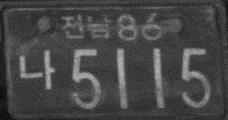1: (151, 46, 169, 110), (114, 46, 130, 109)
5: (69, 46, 101, 111), (177, 45, 210, 108)
6: (141, 11, 162, 41)
8: (115, 13, 137, 42)
나: (17, 47, 56, 90)
전남_O: (60, 14, 111, 41)
